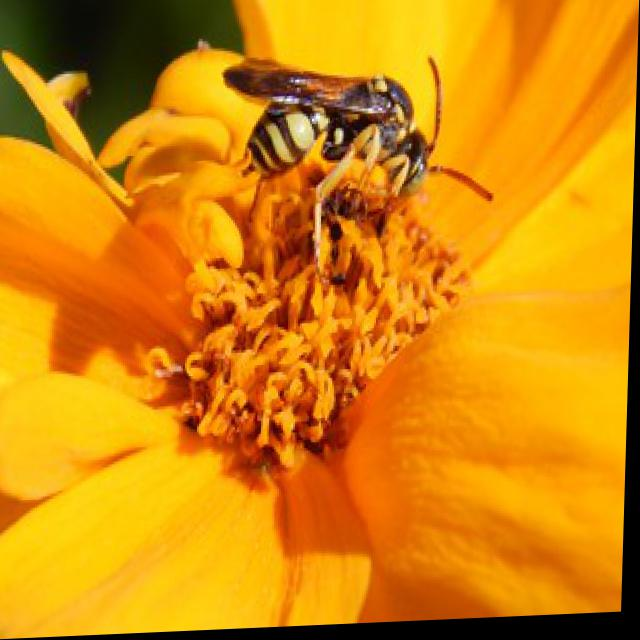Guepe: (221, 11, 518, 276)
